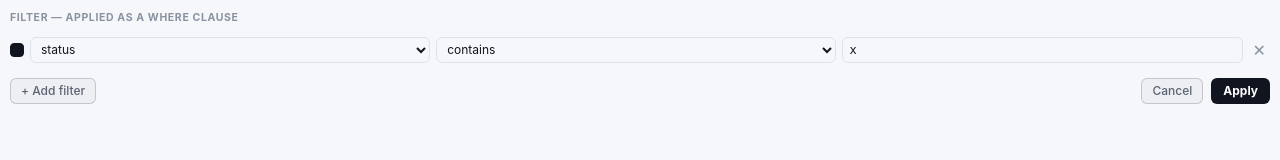
it: FilterPopover › resets the operator when the column changes
Select "paid" in the dropdown named "Filter column" at (230, 50), box [30,37,430,63]
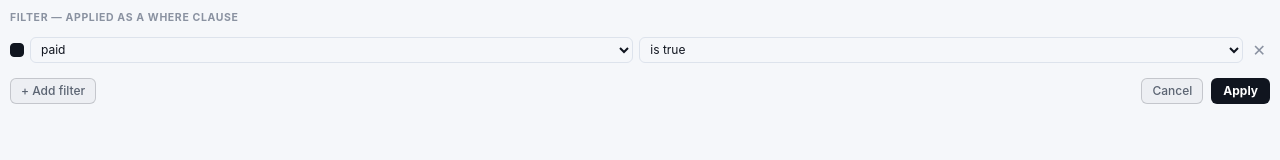
Now the dropdown named "Filter operator" shows "is true", box [639,37,1243,63]
